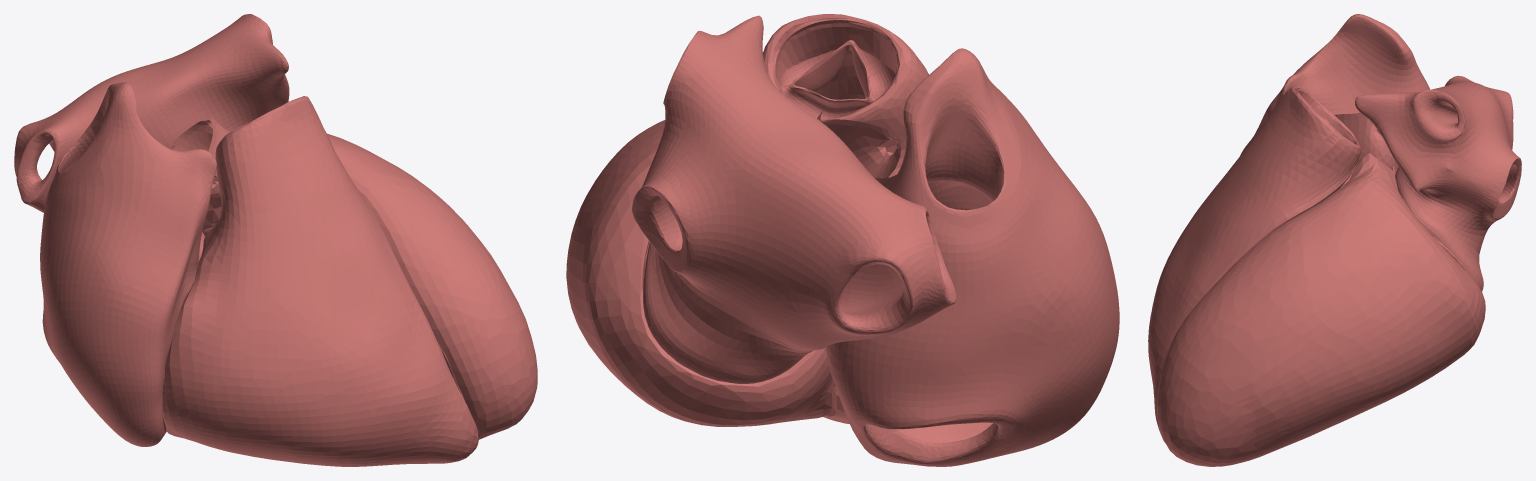
Rendered from VH_M_Heart_0.4.glb.
3 views of the same model, side by side, from view 1: azimuth 30°, elevation 25°; view 2: azimuth 150°, elevation 25°; view 3: azimuth 270°, elevation 25° (orthographic). The views are drawn at different scales.
Parts seen in each view (by area): view 1: VH_M_heart_right_ventricle, VH_M_right_cardiac_atrium, VH_M_heart_left_ventricle, VH_M_left_cardiac_atrium, VH_M_aortic_valve; view 2: VH_M_left_cardiac_atrium, VH_M_right_cardiac_atrium, VH_M_heart_left_ventricle, VH_M_heart_right_ventricle, VH_M_pulmonary_valve, VH_M_aortic_valve; view 3: VH_M_heart_left_ventricle, VH_M_heart_right_ventricle, VH_M_left_cardiac_atrium, VH_M_right_cardiac_atrium, VH_M_aortic_valve.
Part boxes in pixels (left/top/right/bottom): VH_M_heart_right_ventricle: left=162, top=96, right=478, bottom=466; VH_M_right_cardiac_atrium: left=40, top=82, right=216, bottom=446; VH_M_heart_left_ventricle: left=203, top=133, right=537, bottom=439; VH_M_left_cardiac_atrium: left=14, top=14, right=289, bottom=212; VH_M_aortic_valve: left=170, top=113, right=229, bottom=210; VH_M_left_cardiac_atrium: left=632, top=15, right=956, bottom=383; VH_M_right_cardiac_atrium: left=826, top=48, right=1119, bottom=466; VH_M_heart_left_ventricle: left=566, top=120, right=833, bottom=426; VH_M_heart_right_ventricle: left=763, top=14, right=928, bottom=423; VH_M_pulmonary_valve: left=773, top=19, right=897, bottom=119; VH_M_aortic_valve: left=817, top=108, right=900, bottom=188; VH_M_heart_left_ventricle: left=1156, top=153, right=1485, bottom=466; VH_M_heart_right_ventricle: left=1148, top=86, right=1360, bottom=442; VH_M_left_cardiac_atrium: left=1355, top=75, right=1521, bottom=291; VH_M_right_cardiac_atrium: left=1240, top=14, right=1430, bottom=155; VH_M_aortic_valve: left=1334, top=112, right=1398, bottom=169.
Size of the model in its own units: 0.1244 by 0.1055 by 0.1052.
